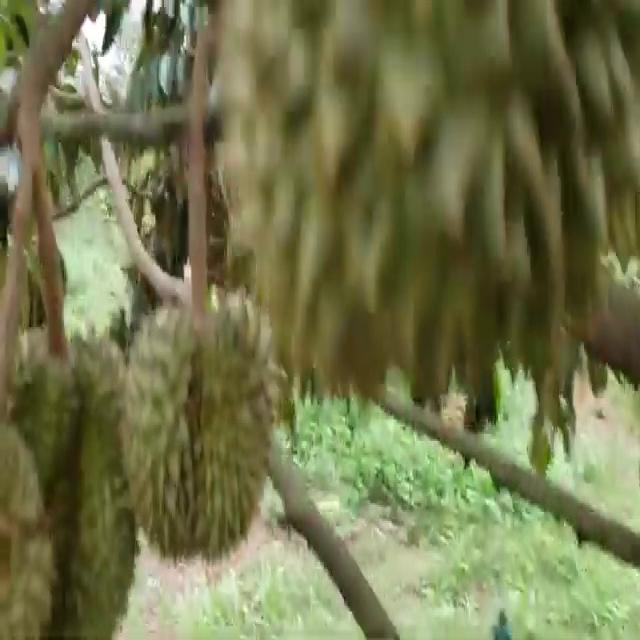durian: (116, 289, 282, 566), (2, 320, 138, 638)
